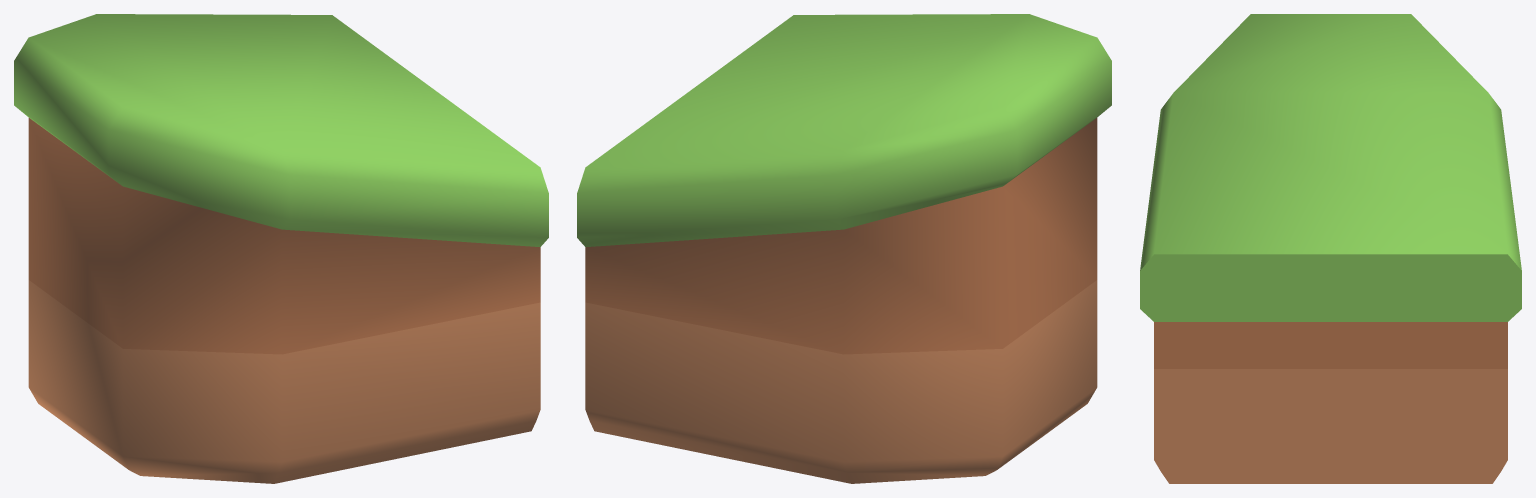
The model's file is 05_slope_down_small_right.glb.
The picture shows the model from 3 angles, left to right: view 1: azimuth 30°, elevation 25°; view 2: azimuth 150°, elevation 25°; view 3: azimuth 270°, elevation 25°; orthographic projection. The views are drawn at different scales.
Parts seen in each view (by area): view 1: 05_slope_down_small_right; view 2: 05_slope_down_small_right; view 3: 05_slope_down_small_right.
Boxes of the visible parts, left/top/right/bottom form: 05_slope_down_small_right: left=14, top=14, right=548, bottom=483; 05_slope_down_small_right: left=577, top=14, right=1111, bottom=483; 05_slope_down_small_right: left=1140, top=14, right=1521, bottom=483.
Bounding box in the file's own units: 0.52 × 0.5 × 0.54.
